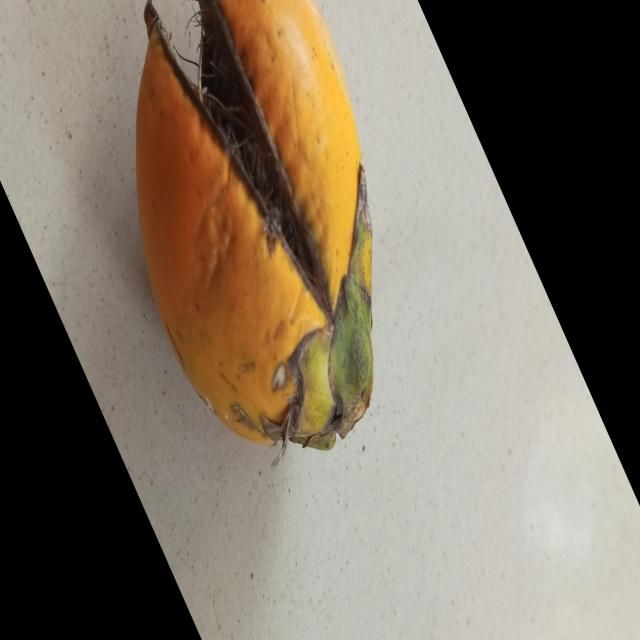damaged: (133, 0, 375, 454)
